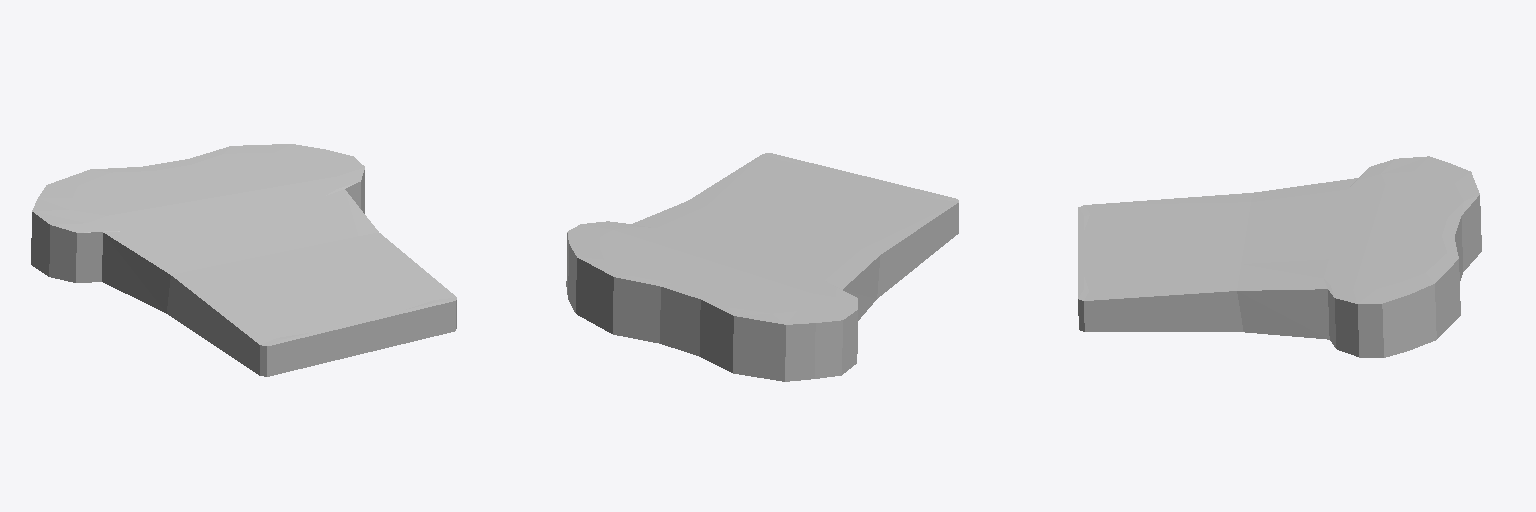
The model's file is Bread_geo_kitchen.obj.
The picture shows the model from 3 angles: view 1: azimuth 30°, elevation 25°; view 2: azimuth 150°, elevation 25°; view 3: azimuth 270°, elevation 25°; orthographic projection.
Visible parts, largest first — view 1: Bread_geo_kitchen:Bread_Model; view 2: Bread_geo_kitchen:Bread_Model; view 3: Bread_geo_kitchen:Bread_Model.
Part boxes in pixels (x1,y1,x2,y2): Bread_geo_kitchen:Bread_Model: (31,144,456,376); Bread_geo_kitchen:Bread_Model: (566,153,958,381); Bread_geo_kitchen:Bread_Model: (1078,156,1481,357).
Size of the model in its own units: 455 by 85.41 by 533.